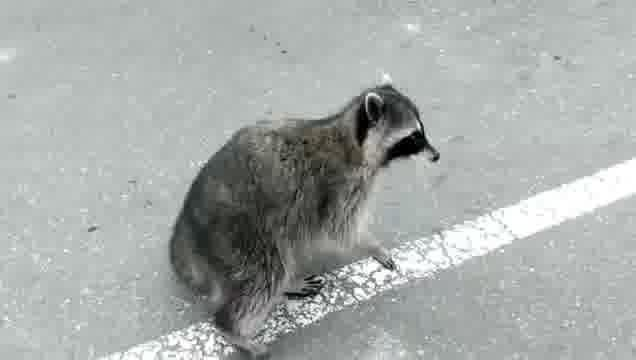raccoon: (169, 72, 441, 360)
